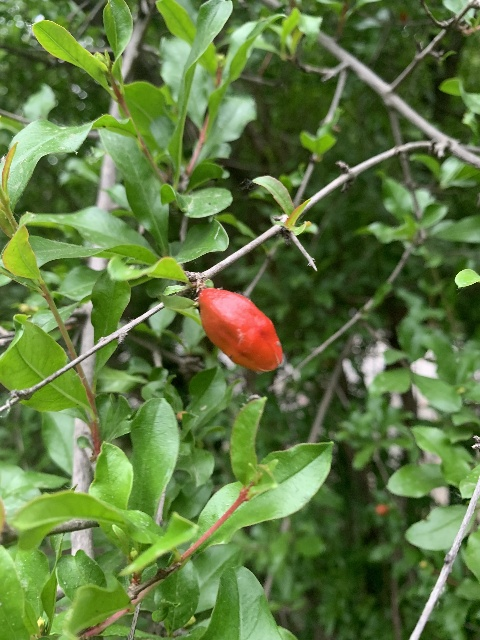bud: (198, 287, 283, 373)
